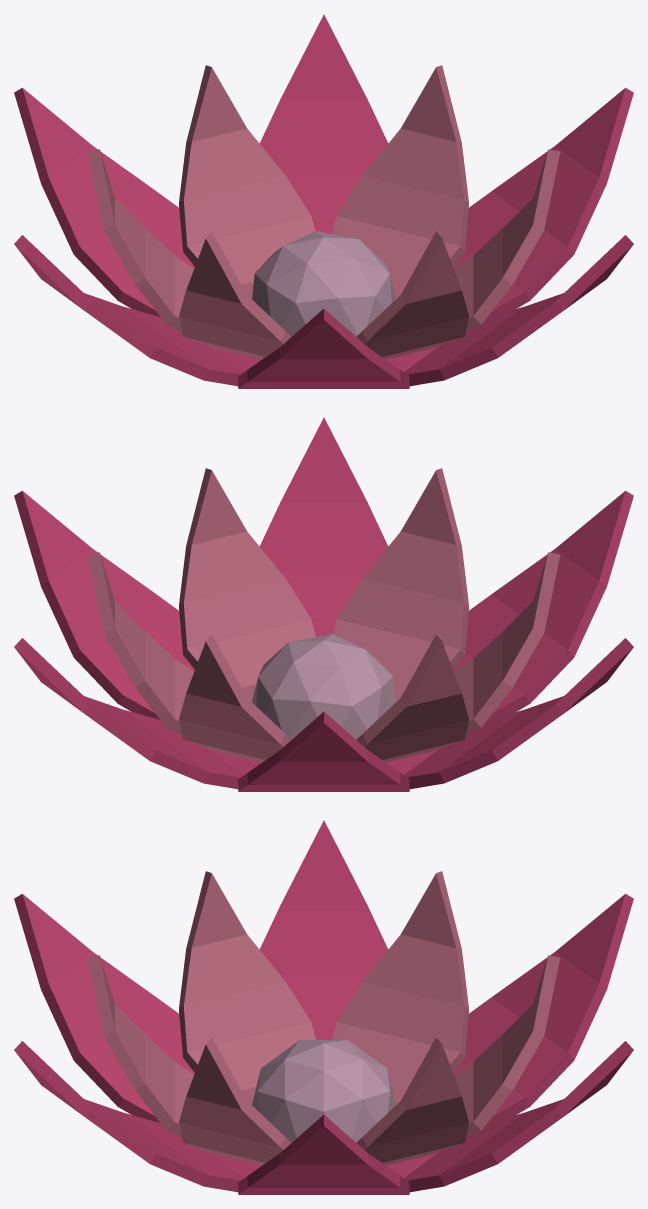
File: WaterFlower.fbx
3 views of the same model, one above another, from view 1: azimuth 30°, elevation 25°; view 2: azimuth 150°, elevation 25°; view 3: azimuth 270°, elevation 25° (orthographic).
Parts seen in each view (by area): view 1: Circle.001; view 2: Circle.001; view 3: Circle.001.
Boxes of the visible parts, x1,y1,x2,y2 form: Circle.001: (14, 14, 633, 388); Circle.001: (14, 417, 633, 791); Circle.001: (14, 820, 633, 1194).
Size of the model in its own units: 5.44 by 1.53 by 4.71.
